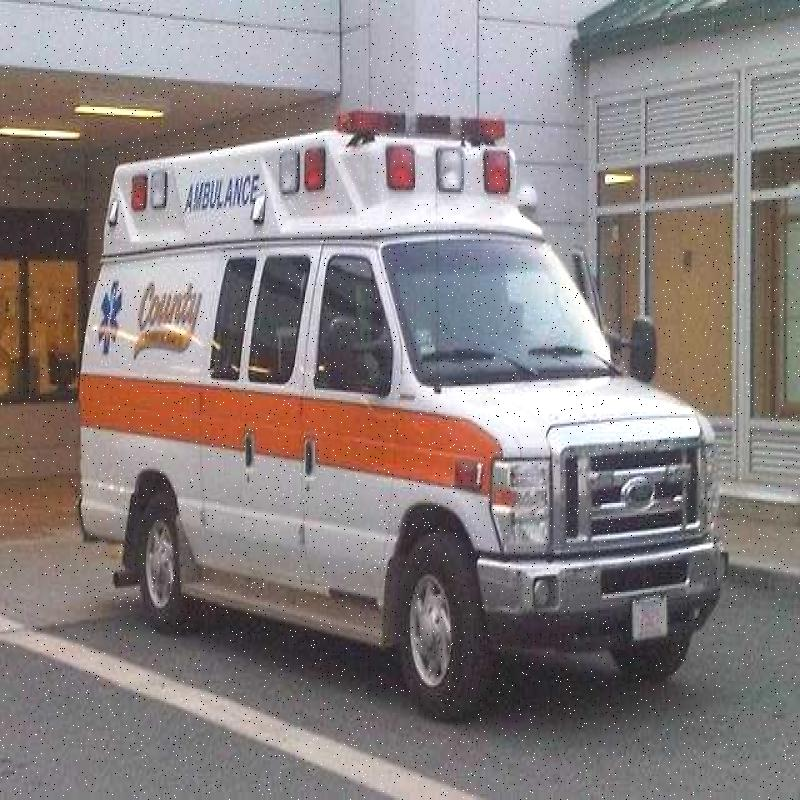AmbulanceSiren: (336, 107, 548, 229)
